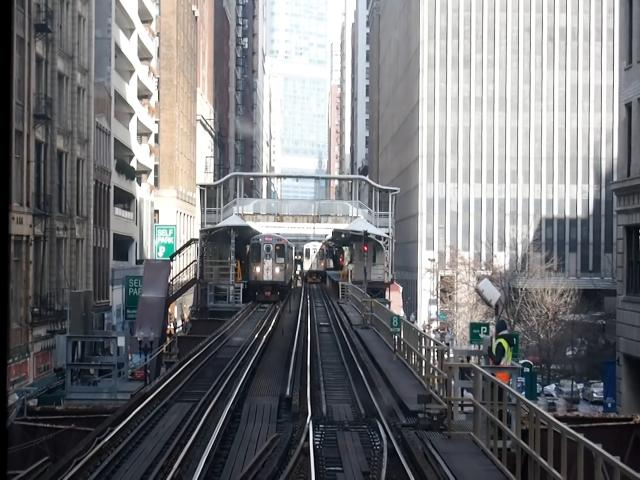signal light: (363, 230, 371, 268)
